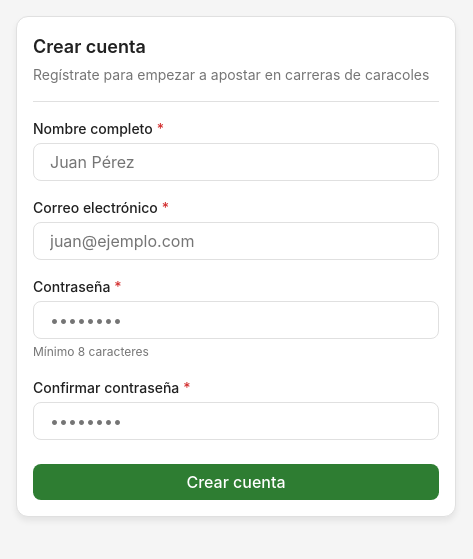
Test: RegisterForm › shows validation error for password mismatch
Type "Test User" into the field labelled "Nombre completo*" at (236, 162), box top-left (33, 143), bottom-right (439, 181)
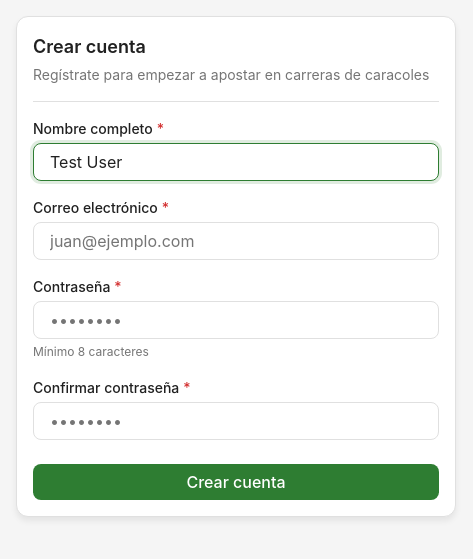
Type "test@example.com" into the field labelled "Correo electrónico*" at (236, 241), box top-left (33, 222), bottom-right (439, 260)
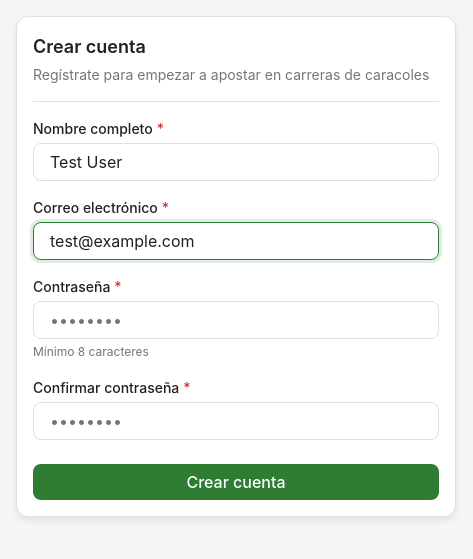
Type "password123" into the password field labelled "Contraseña*" at (236, 320), box top-left (33, 301), bottom-right (439, 339)
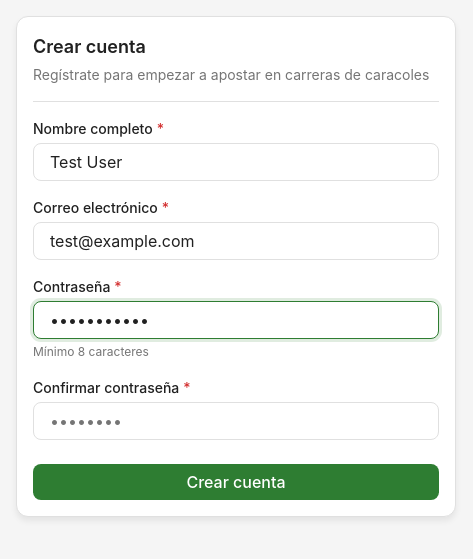
Type "different" into the password field labelled "Confirmar contraseña*" at (236, 421), box top-left (33, 402), bottom-right (439, 440)
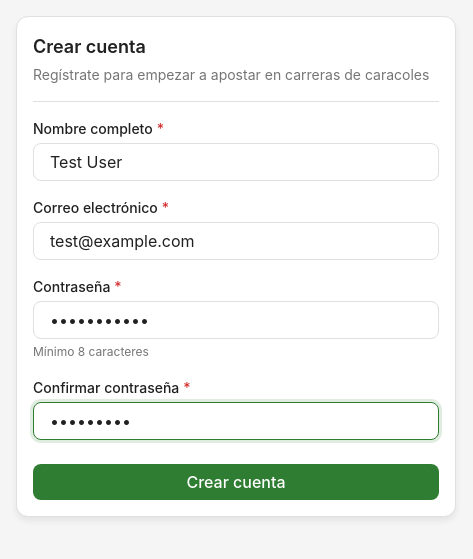
Click the button "Crear cuenta" at (236, 482), box top-left (33, 464), bottom-right (439, 500)
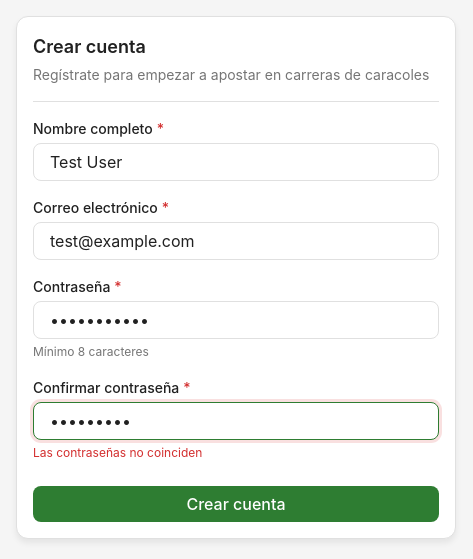
Now the text "Las contraseñas no coinciden" is shown, box top-left (33, 445), bottom-right (202, 460)
